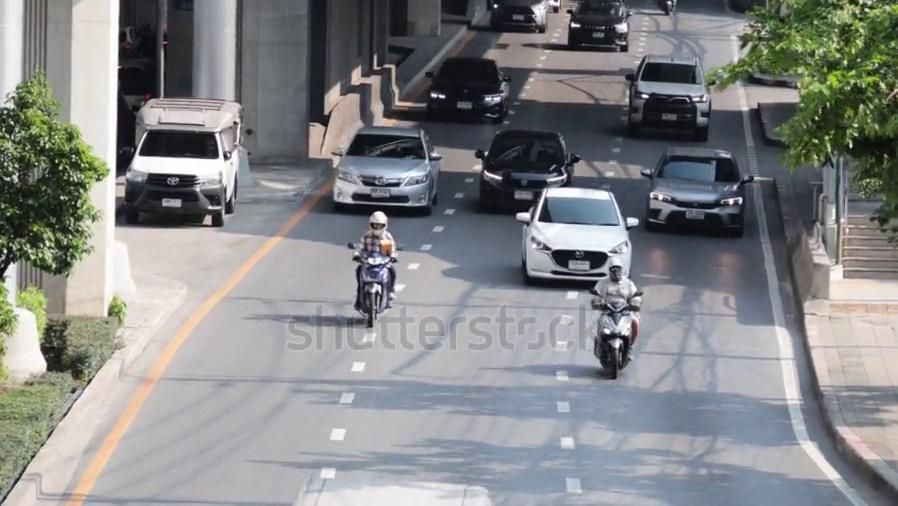rider: (590, 257, 640, 357), (350, 209, 398, 310)
with_helmate: (365, 212, 384, 236), (609, 257, 624, 279)
